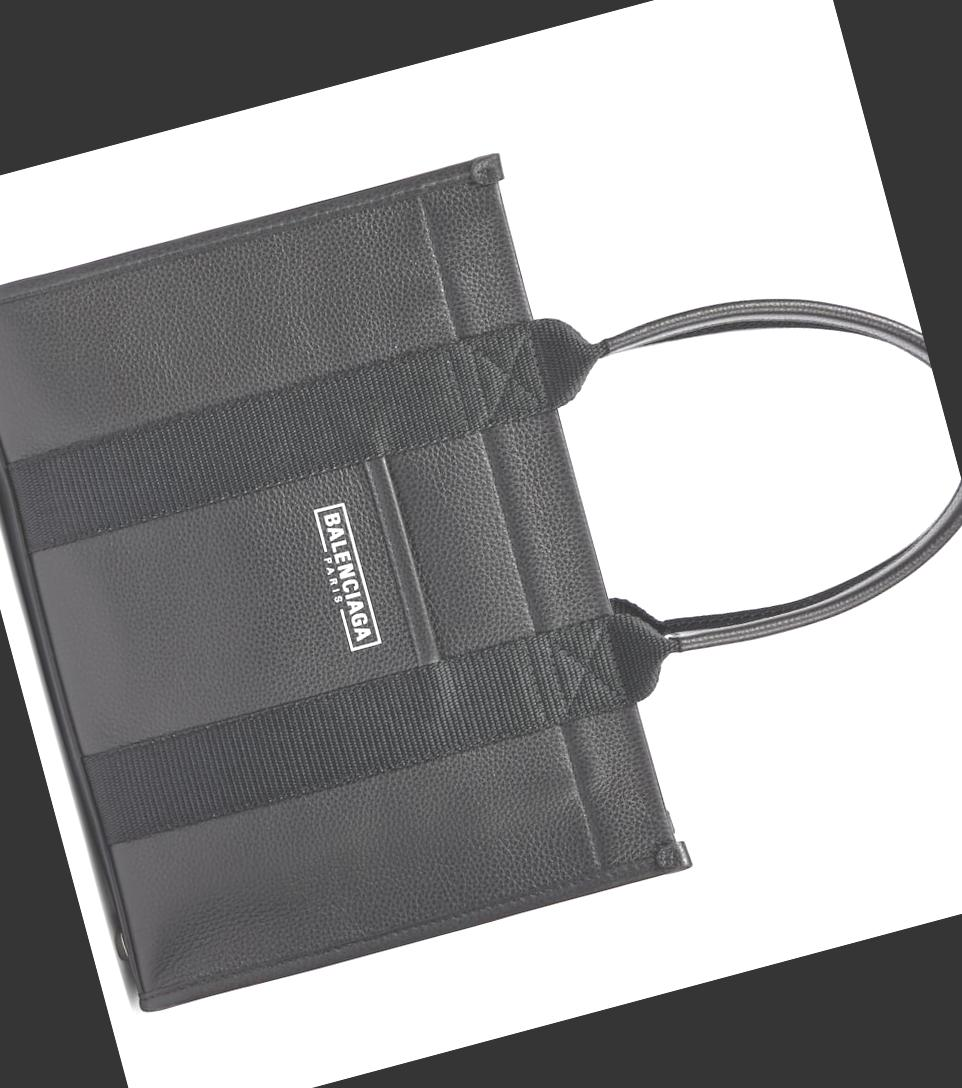BALENCIAGA: (322, 511, 372, 642)
